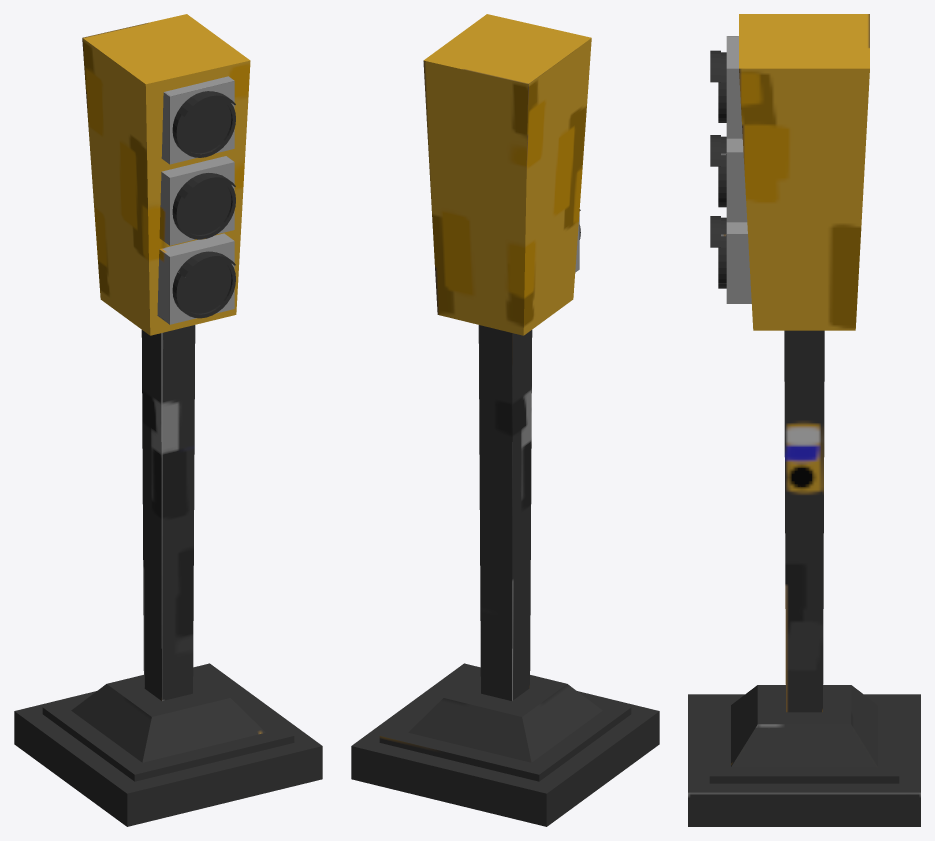
Rendered from trafficlight.glb.
3 renders of one model, left to right at view 1: azimuth 30°, elevation 25°; view 2: azimuth 150°, elevation 25°; view 3: azimuth 270°, elevation 25°, orthographic. The views are drawn at different scales.
Visible parts, largest first — view 1: trafficlight, Cylinder.003, Cylinder.004, Cylinder.005, Cube.003, Cube.002, Cube.001; view 2: trafficlight; view 3: trafficlight, Cube.003, Cube.002, Cube.001, Cylinder.003, Cylinder.004, Cylinder.005.
Part boxes in pixels (x1,y1,x2,y2): trafficlight: [14, 14, 322, 826]; Cylinder.003: [172, 91, 235, 157]; Cylinder.004: [172, 173, 235, 239]; Cylinder.005: [172, 251, 235, 318]; Cube.003: [157, 233, 234, 324]; Cube.002: [159, 156, 234, 245]; Cube.001: [161, 76, 234, 164]; trafficlight: [351, 14, 659, 826]; trafficlight: [688, 14, 920, 826]; Cube.003: [726, 222, 751, 303]; Cube.002: [726, 138, 747, 222]; Cube.001: [726, 36, 742, 138]; Cylinder.003: [710, 50, 726, 122]; Cylinder.004: [710, 135, 726, 207]; Cylinder.005: [710, 216, 726, 288].
Bounding box in the file's own units: 0.9457 × 3.3 × 0.9457.
Materials: 1 (1 with a texture image).
